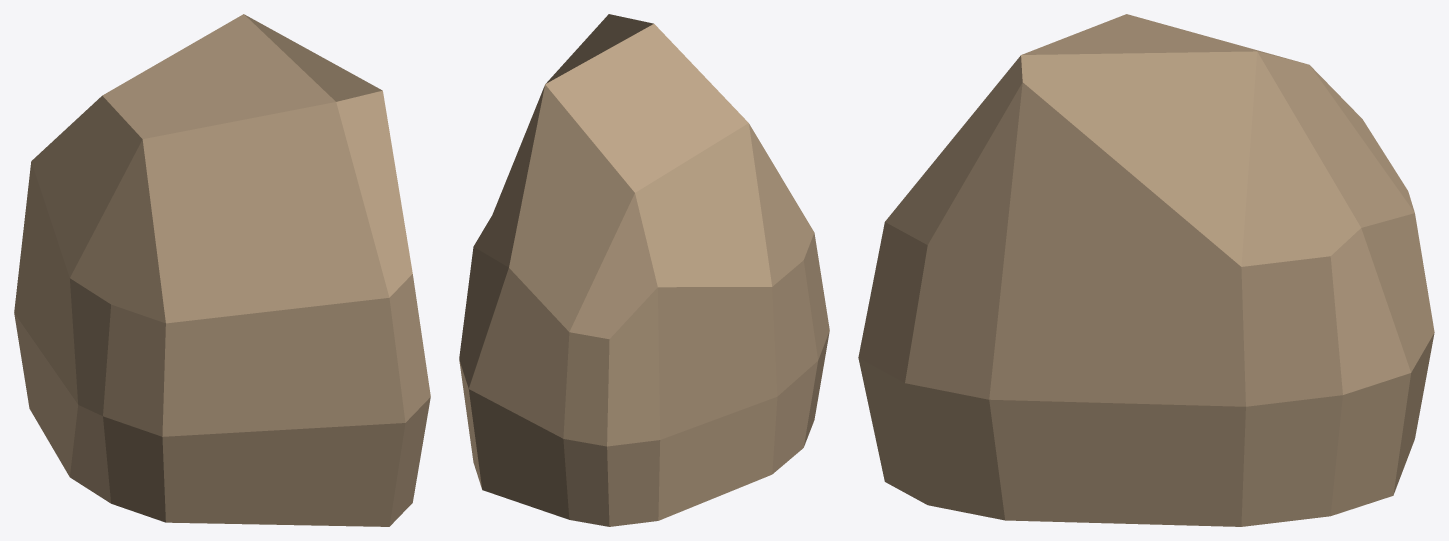
Rendered from rock_9.FBX.
3 views of the same model, side by side, from view 1: azimuth 30°, elevation 25°; view 2: azimuth 150°, elevation 25°; view 3: azimuth 270°, elevation 25° (orthographic). The views are drawn at different scales.
Visible parts, largest first — view 1: rock_9; view 2: rock_9; view 3: rock_9.
Part boxes in pixels (x1=…): rock_9: x1=14, y1=14, x2=430, y2=526; rock_9: x1=459, y1=14, x2=829, y2=526; rock_9: x1=858, y1=14, x2=1434, y2=526.
Bounding box in the file's own units: 656 × 840 × 996.
